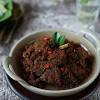rendang: (13, 28, 100, 93)
